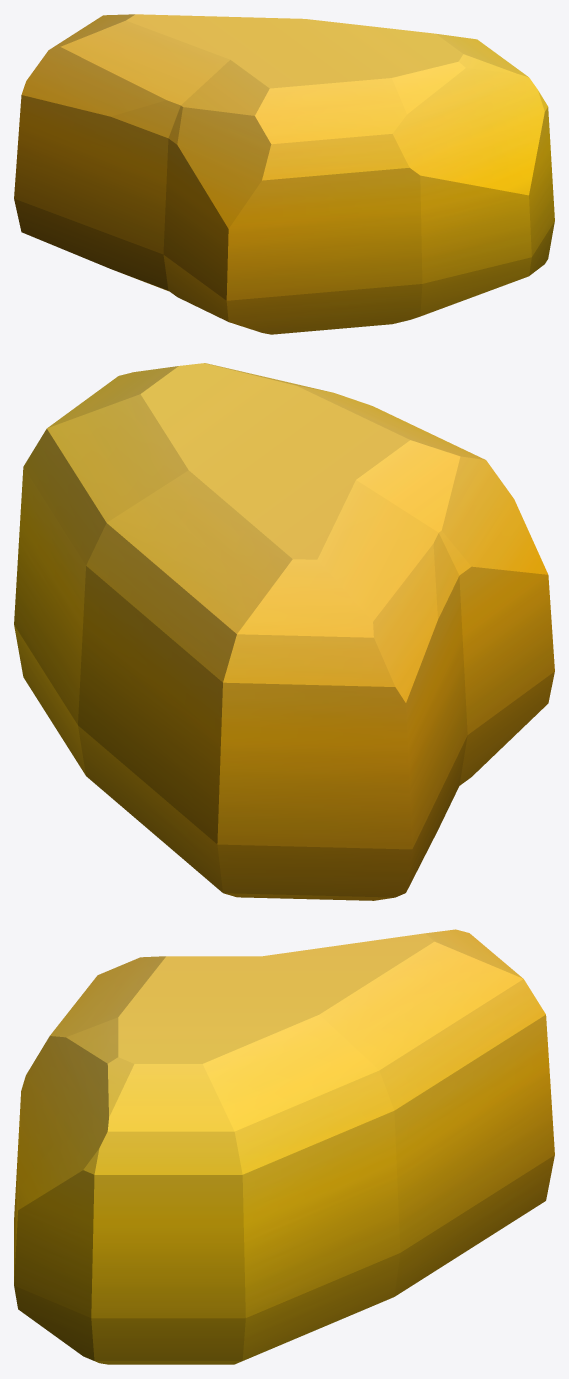
File: boulder8.FBX
3 views of the same model, one above another, from view 1: azimuth 30°, elevation 25°; view 2: azimuth 150°, elevation 25°; view 3: azimuth 270°, elevation 25° (orthographic). The views are drawn at different scales.
Visible parts, largest first — view 1: boulder8; view 2: boulder8; view 3: boulder8.
Part boxes in pixels (x1=…): boulder8: x1=14, y1=14, x2=554, y2=334; boulder8: x1=14, y1=363, x2=554, y2=900; boulder8: x1=14, y1=929, x2=554, y2=1364.
Bounding box in the file's own units: 0.7 × 0.7 × 0.399.
Materials: 1 (1 with a texture image).
